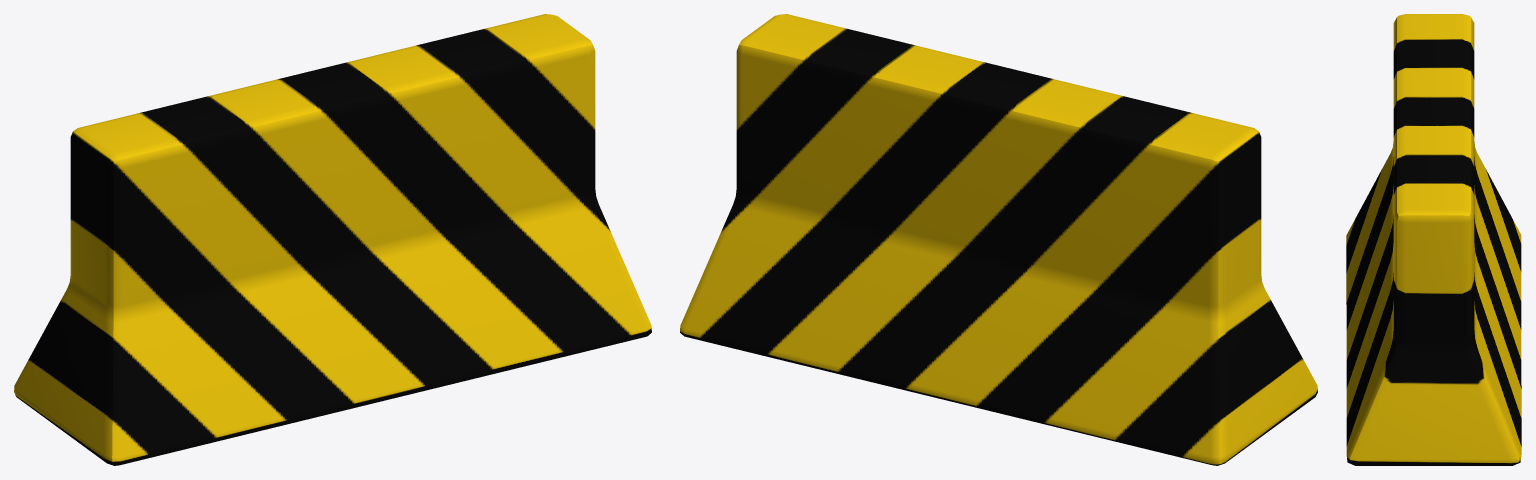
Rendered from NewFence.fbx.
3 views of the same model, side by side, from view 1: azimuth 30°, elevation 25°; view 2: azimuth 150°, elevation 25°; view 3: azimuth 270°, elevation 25° (orthographic). The views are drawn at different scales.
Parts seen in each view (by area): view 1: NewFence; view 2: NewFence; view 3: NewFence.
Boxes of the visible parts, left/top/right/bottom form: NewFence: left=14, top=14, right=651, bottom=465; NewFence: left=680, top=14, right=1317, bottom=465; NewFence: left=1346, top=14, right=1521, bottom=465.
Bounding box in the file's own units: 3.56 × 1.77 × 1.15.
